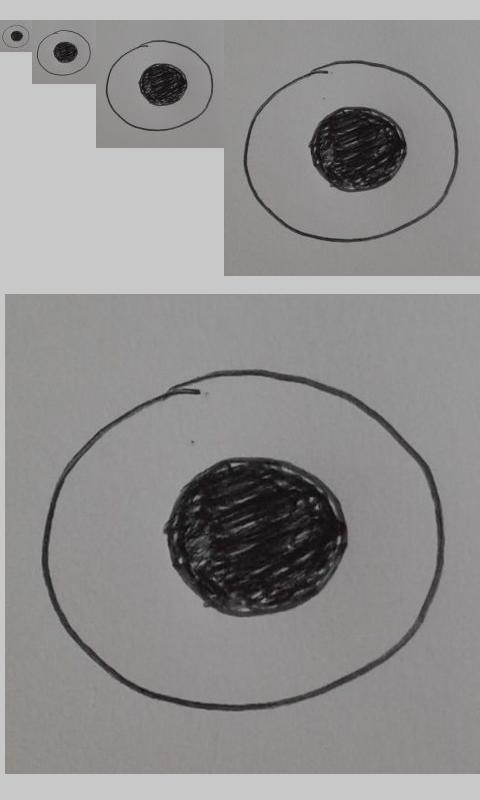radio_button: (41, 367, 446, 714), (242, 59, 462, 244), (105, 38, 215, 132), (36, 28, 92, 77), (1, 24, 30, 49)
